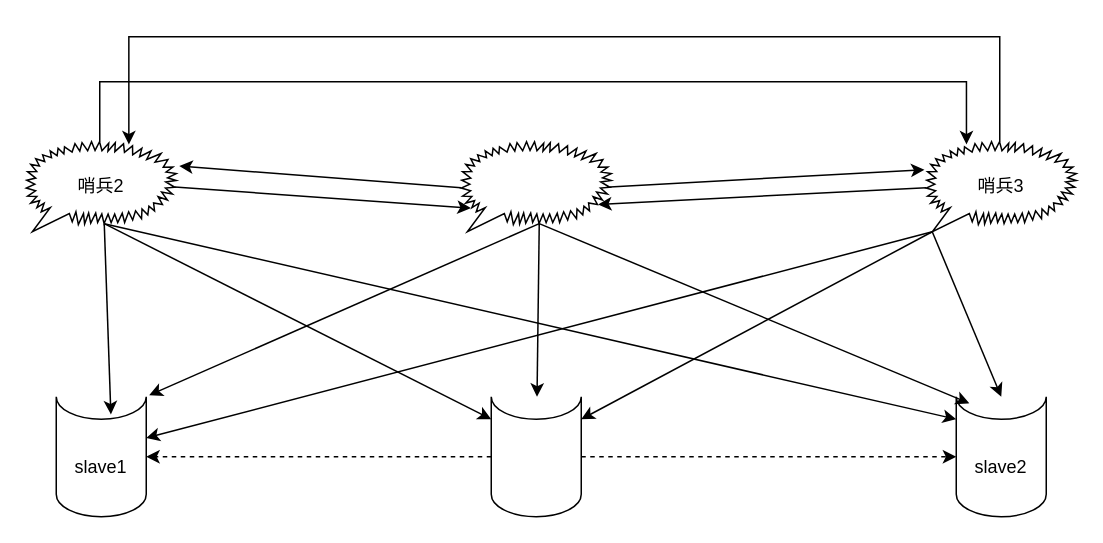
Image size: 1103x543. Some labels were removed from this diagram. The centre of each missing label's shape, as x and y in pixels:
"master" goes at (535,456).
"哨兵1" goes at (535,186).
